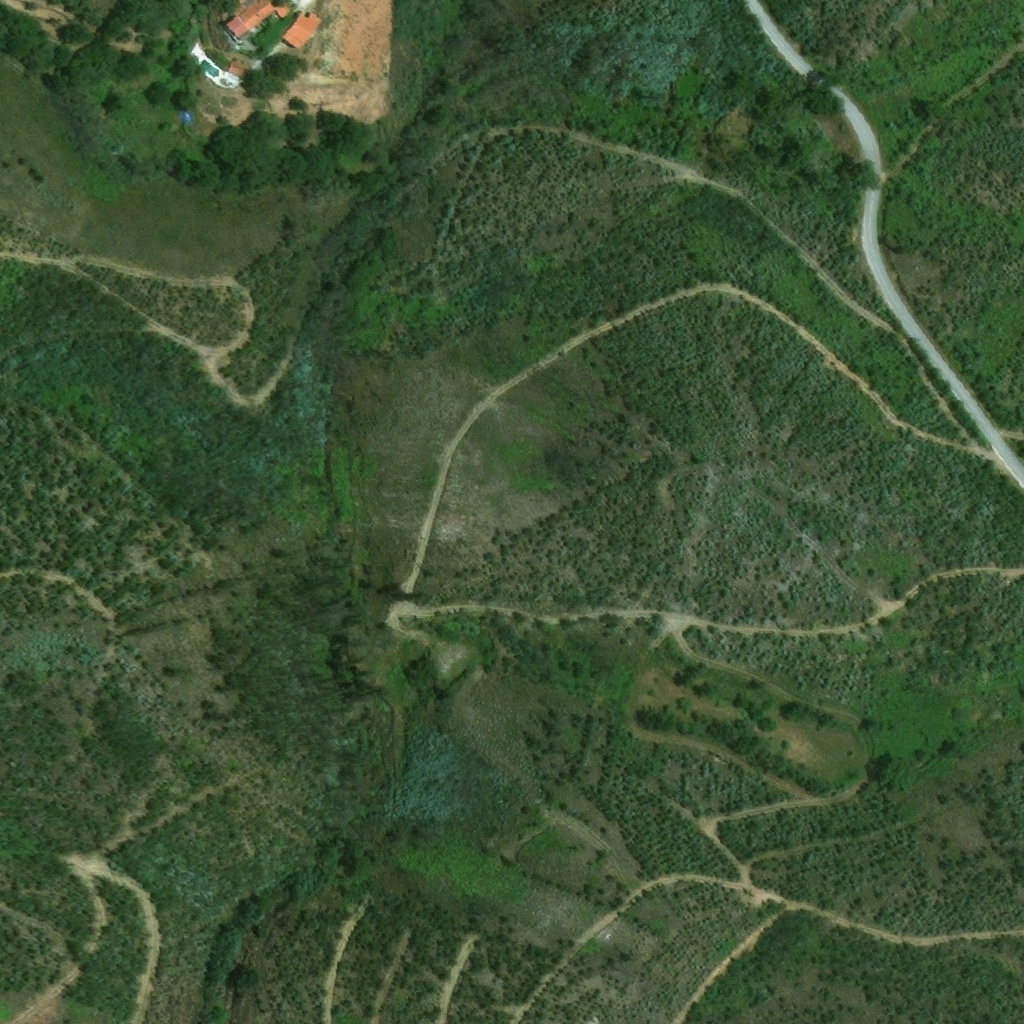0 no-damage: (226, 0, 293, 37), (282, 11, 323, 49), (228, 62, 248, 77)
4 un-classified: (304, 139, 313, 150)
